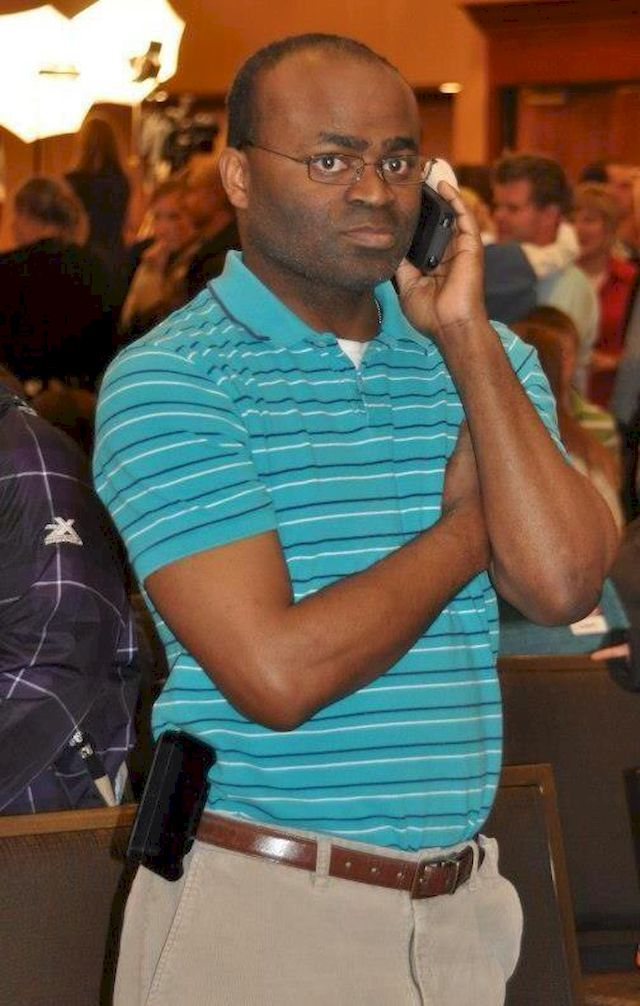phone: (397, 165, 474, 297)
talk: (292, 121, 487, 336)
